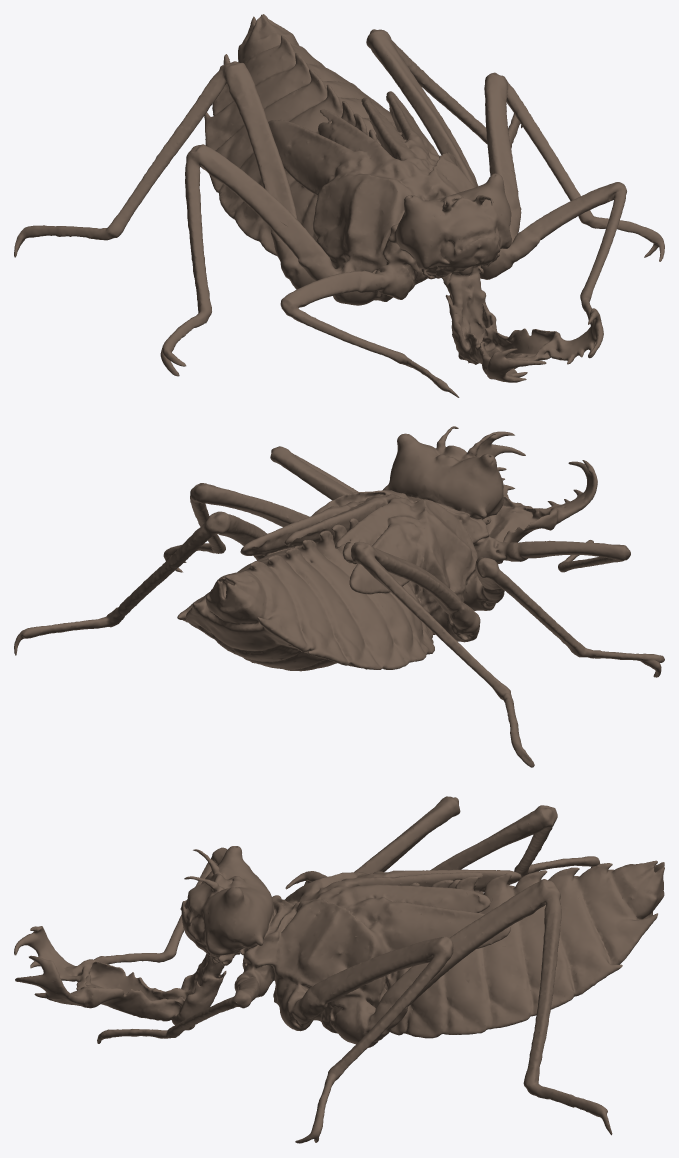
File: placed-1.glb
3 views of the same model, one above another, from view 1: azimuth 30°, elevation 25°; view 2: azimuth 150°, elevation 25°; view 3: azimuth 270°, elevation 25° (orthographic). The views are drawn at different scales.
Visible parts, largest first — view 1: Object_3, Object_2, Object_4; view 2: Object_2, Object_3, Object_4; view 3: Object_2, Object_3, Object_4.
Part boxes in pixels (x1=…): Object_3: x1=14, y1=14, x2=664, y2=397; Object_2: x1=160, y1=14, x2=521, y2=376; Object_4: x1=38, y1=14, x2=663, y2=397; Object_2: x1=182, y1=433, x2=664, y2=677; Object_3: x1=14, y1=426, x2=660, y2=767; Object_4: x1=15, y1=426, x2=657, y2=733; Object_2: x1=160, y1=807, x2=664, y2=1047; Object_3: x1=30, y1=796, x2=664, y2=1143; Object_4: x1=14, y1=796, x2=664, y2=1143.
Size of the model in its own units: 0.1403 by 0.0475 by 0.15.
